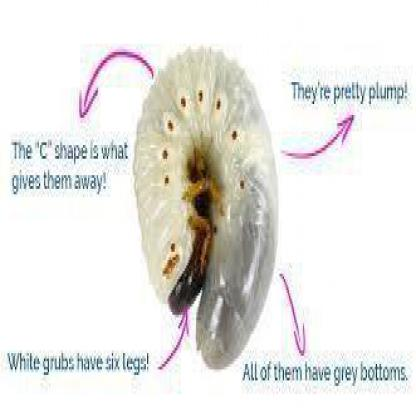root grubs: (134, 44, 278, 367)
